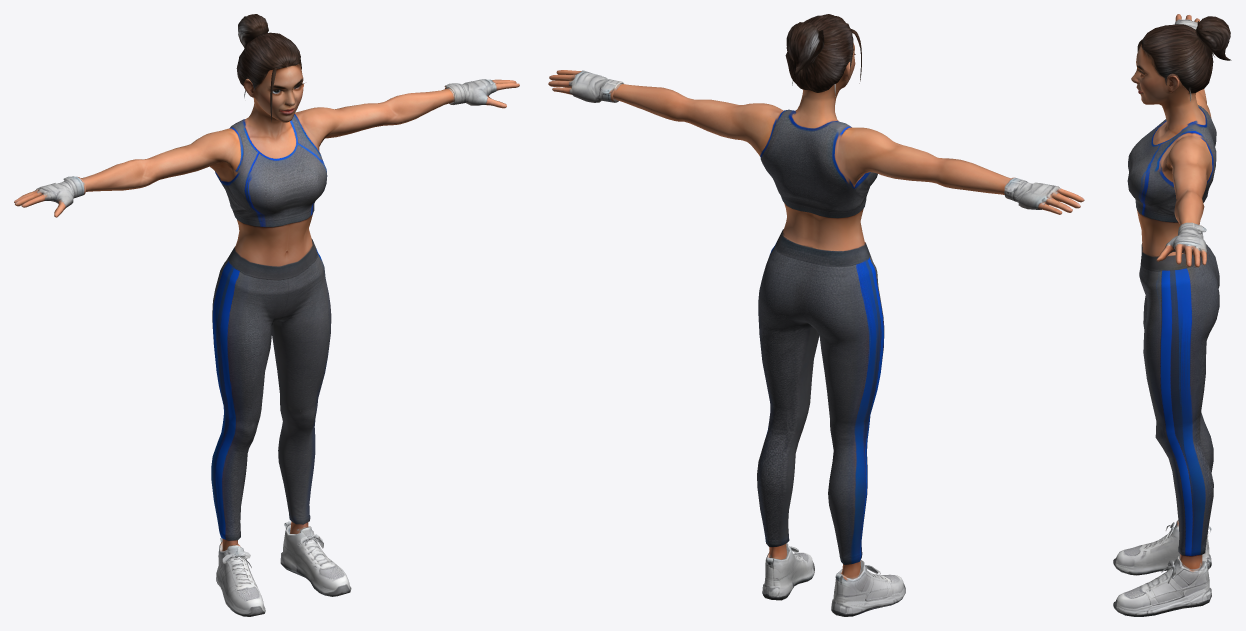
File: coach_f_tripo_static.glb
3 views of the same model, side by side, from view 1: azimuth 30°, elevation 25°; view 2: azimuth 150°, elevation 25°; view 3: azimuth 270°, elevation 25° (orthographic). The views are drawn at different scales.
Parts seen in each view (by area): view 1: tripo_node_90120ea2; view 2: tripo_node_90120ea2; view 3: tripo_node_90120ea2.
Part boxes in pixels (x1,y1,x2,y2): tripo_node_90120ea2: (14,14,519,616); tripo_node_90120ea2: (548,14,1084,616); tripo_node_90120ea2: (1113,14,1231,616).
Bounding box in the file's own units: 0.9399 × 0.9995 × 0.188.
Materials: 1 (1 with a texture image).
